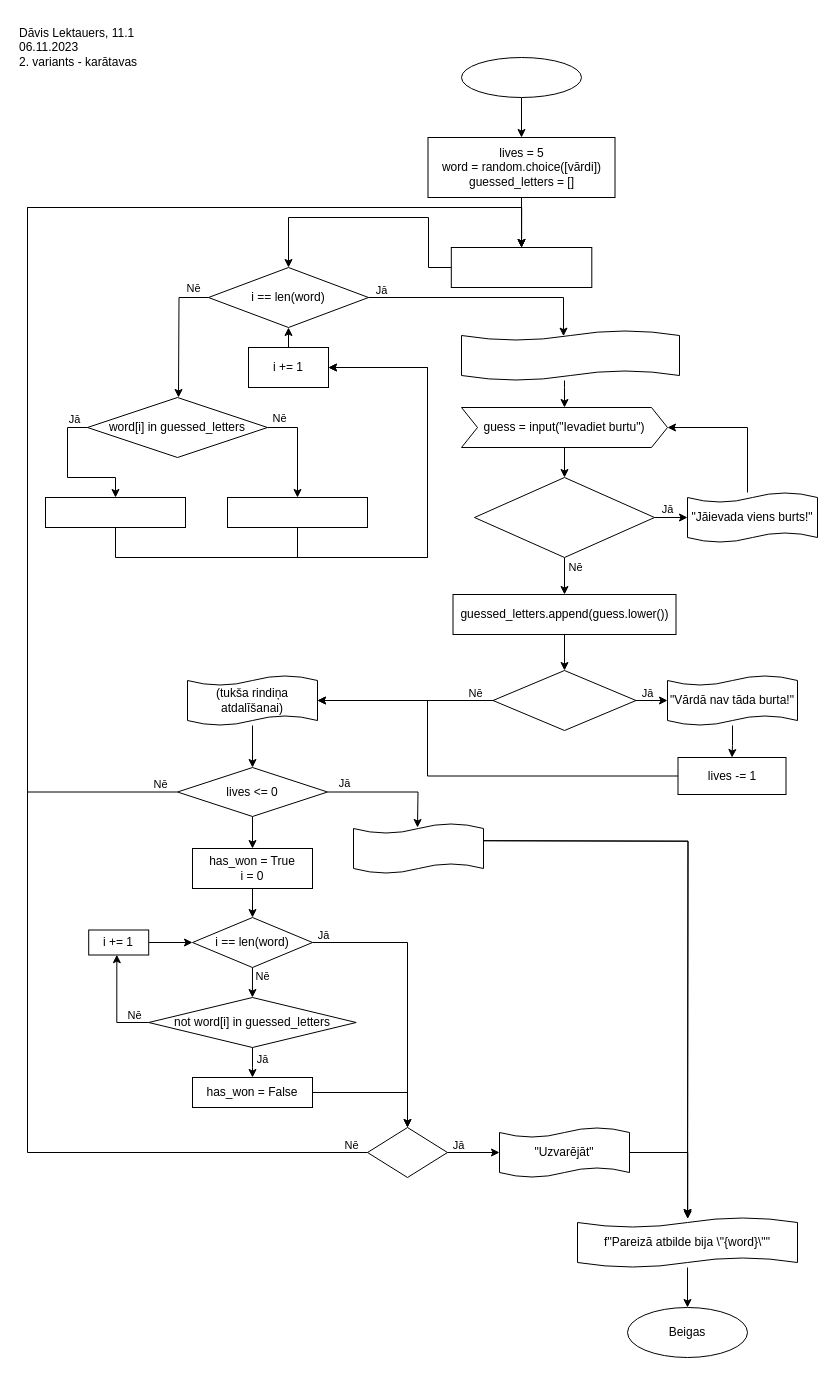
The diagram is 835 pixels wide and 1375 high, and some of its shapes have lost their labels. The centre of each missing label's shape, as x and y in pixels:
"Zaudējāt": pixel 418 848
f"{hidden_word} Dzīvības: {lives}": pixel 570 355
has_won?: pixel 407 1152
hidden_word += "_": pixel 297 512
hidden_word += word[i]: pixel 115 512
hidden_word = "" i = 0: pixel 521 267
len(guess) != -1 vai arī guess nav burts: pixel 564 517
not guess in word: pixel 564 700
Sākums: pixel 521 77
